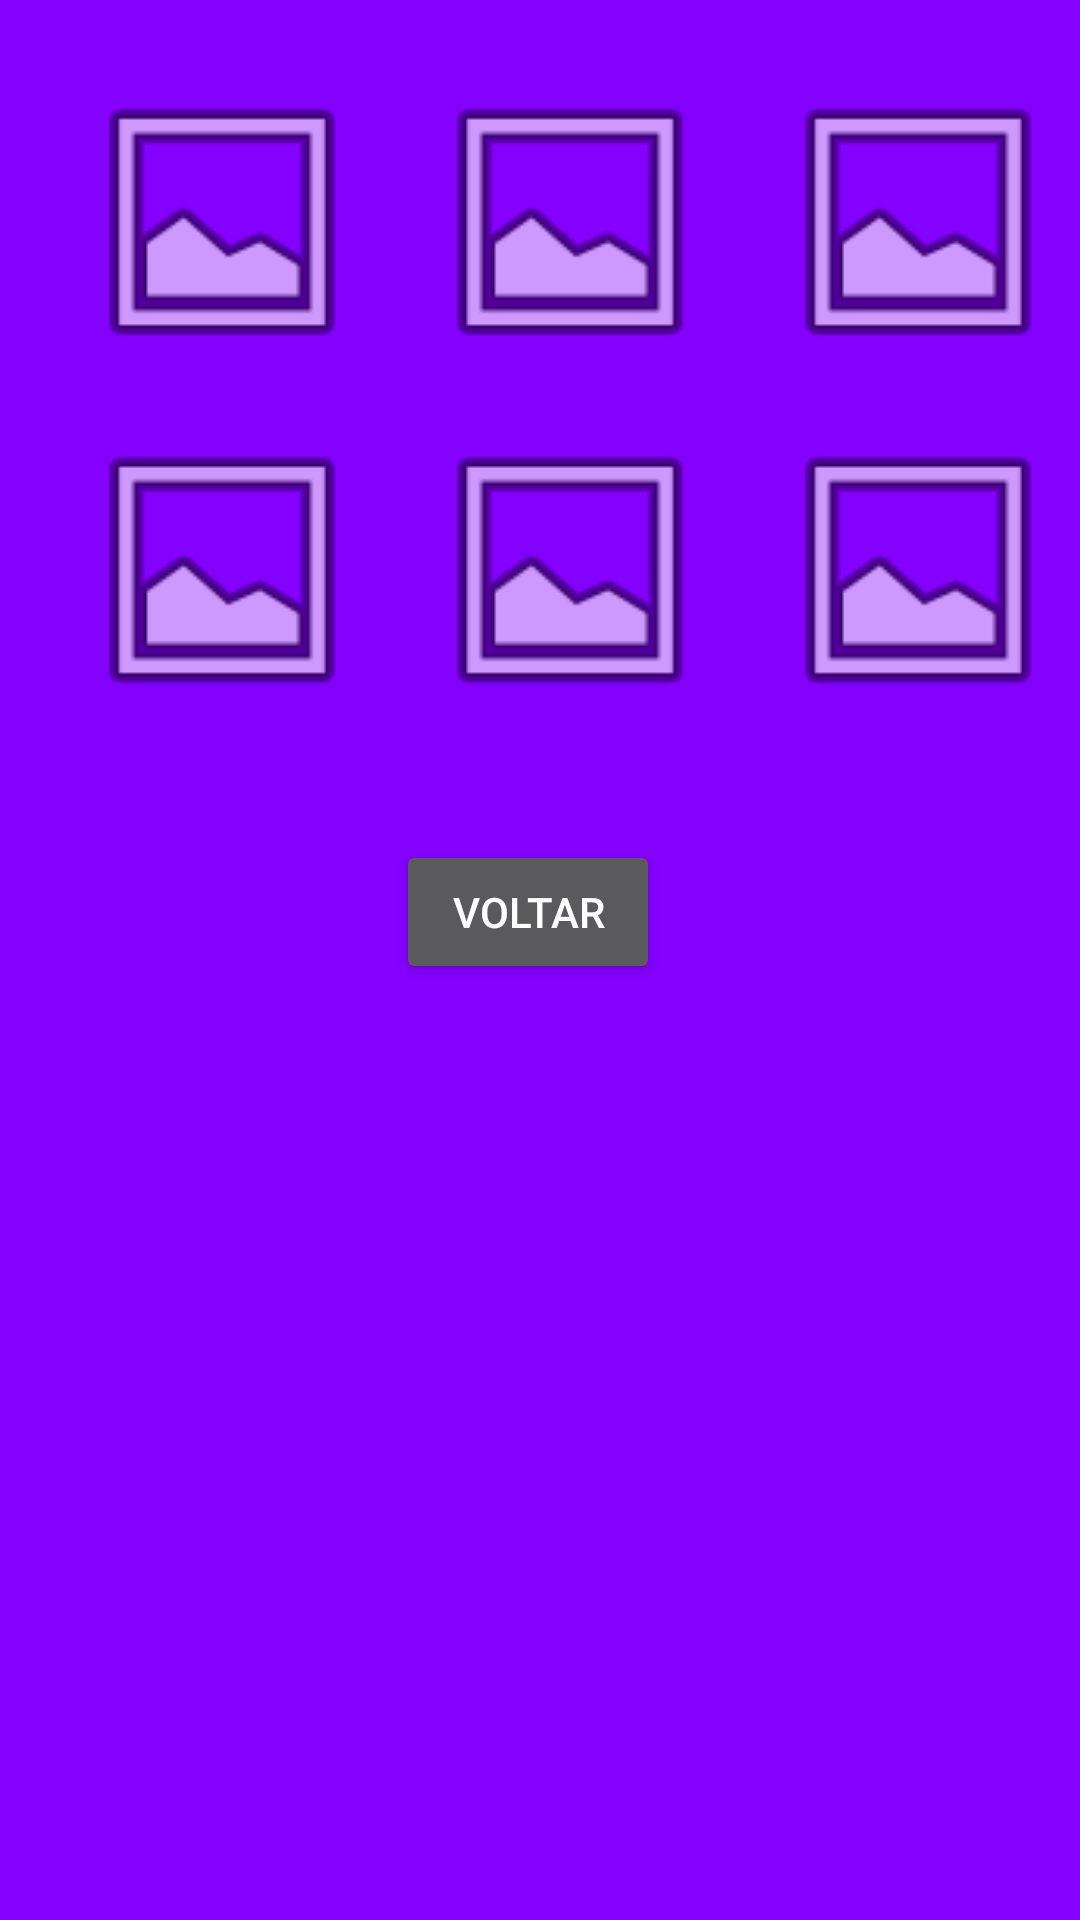

Named icons in this screenshot (1080*1920) and their bounding boxes, Rect(x1, y1, x2, y2):
gallery: Rect(109, 109, 335, 335), Rect(457, 109, 683, 335), Rect(805, 109, 1031, 335), Rect(109, 457, 335, 683), Rect(457, 457, 683, 683), Rect(805, 457, 1031, 683)
